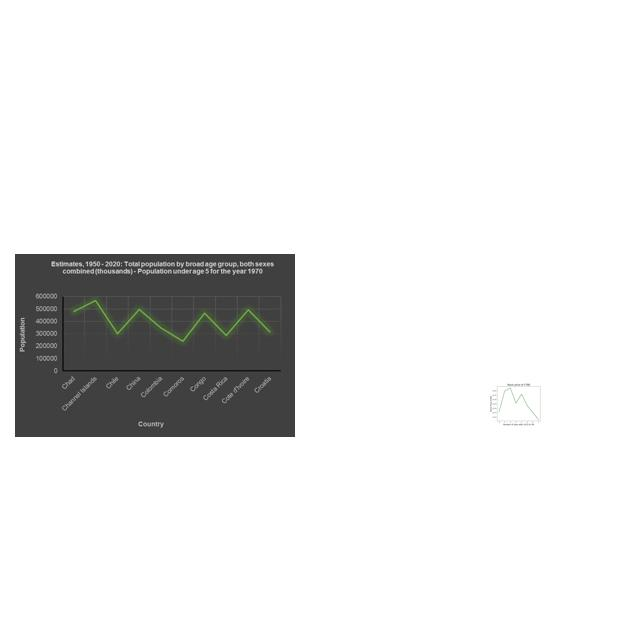Graph: (15, 254, 295, 437), (488, 381, 548, 426)
